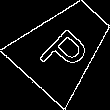P_NE: (33, 16, 95, 78)
